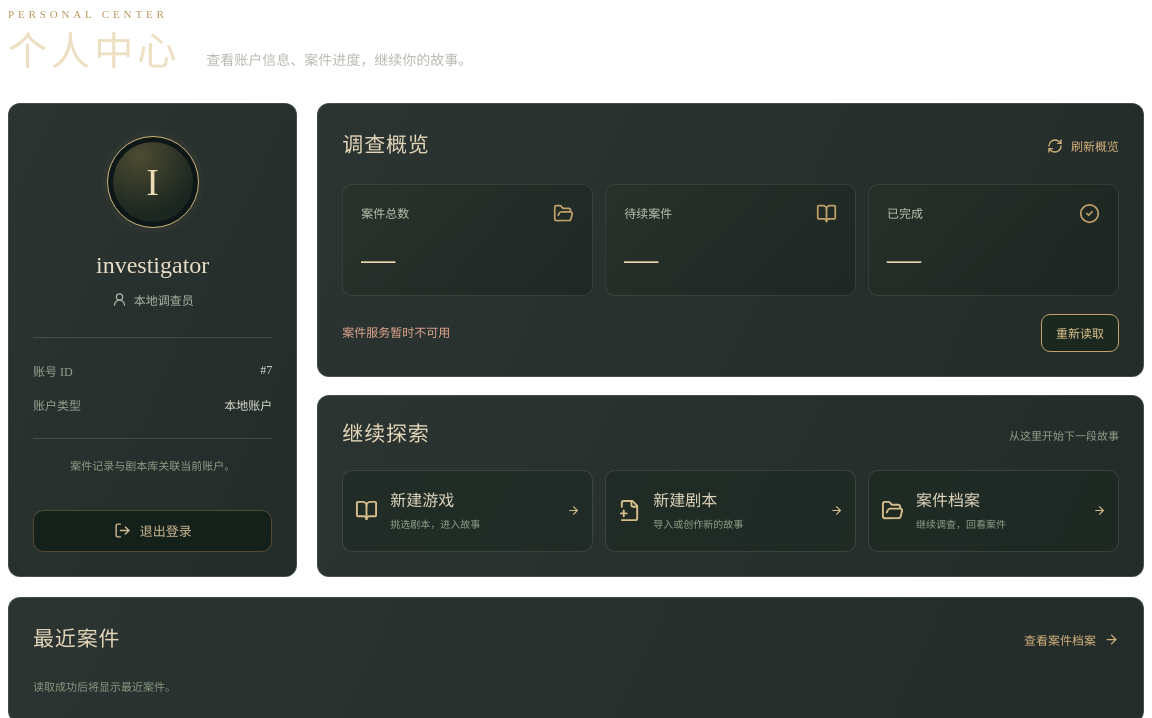
Test: PersonalCenterView › reports a failed load and retries without fabricating records or counts
Expected: the message "案件服务暂时不可用" is shown, [342,323,450,344]
Click the button "重新读取": point(1080, 333) [1041,314,1119,352]
(page scrolled)
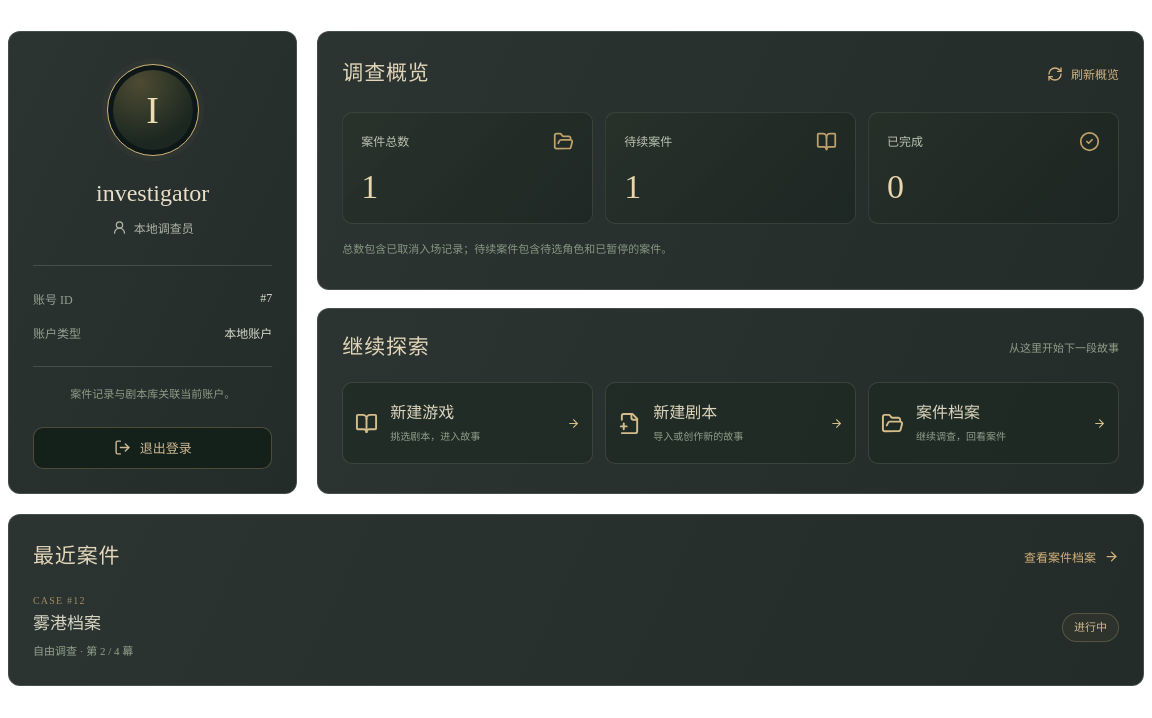
Expected: the list shows "雾港档案", [33,614,101,632]
